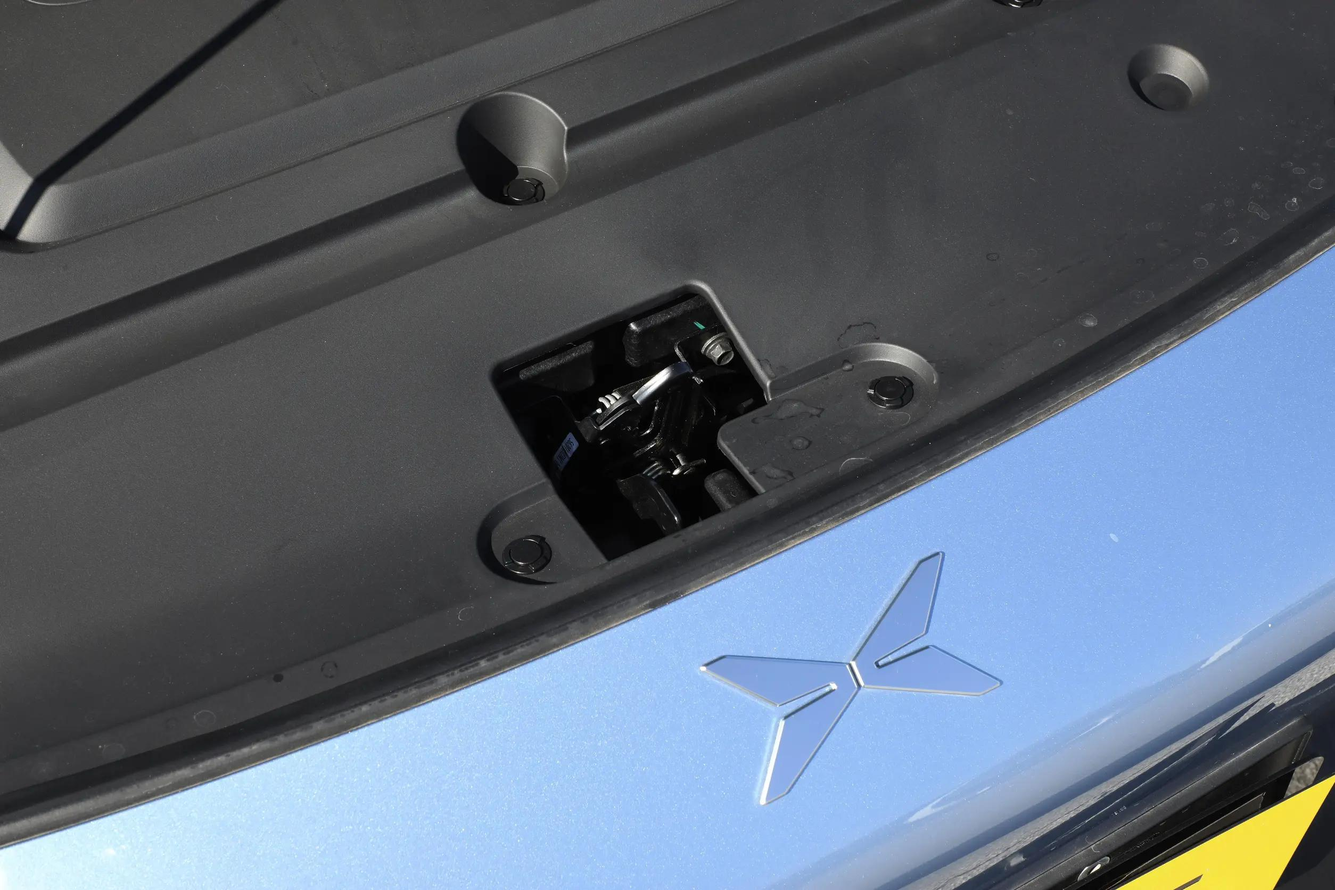XPeng Motors: (700, 551, 1000, 805)
